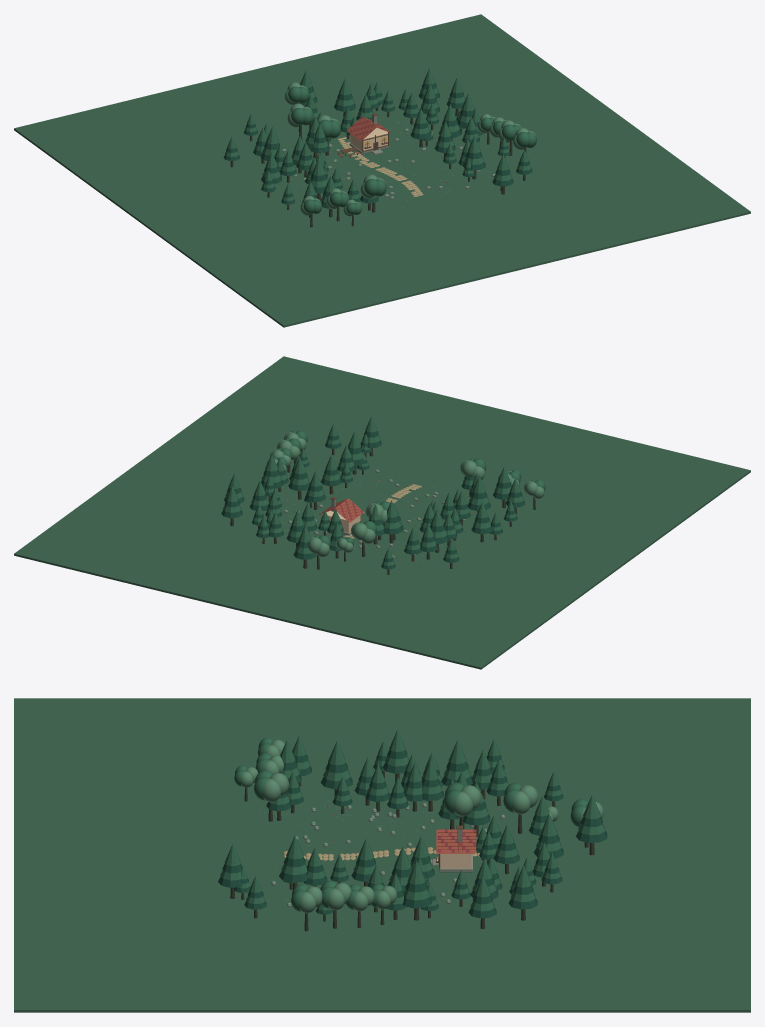
Rendered from cottage-DAZlgpLc.glb.
The picture shows the model from 3 angles, top to bottom: view 1: azimuth 30°, elevation 25°; view 2: azimuth 150°, elevation 25°; view 3: azimuth 270°, elevation 25°; orthographic projection. The views are drawn at different scales.
Parts seen in each view (by area): view 1: Forest_ground, Forest_leaf, Forest_darkleaf, Forest_lightleaf, Forest_bark, Forest_path; view 2: Forest_ground, Forest_leaf, Forest_darkleaf, Forest_lightleaf, Forest_bark; view 3: Forest_ground, Forest_leaf, Forest_darkleaf, Forest_lightleaf, Forest_bark, Forest_roof, Forest_stone, Forest_path.
Part boxes in pixels (x1,y1,x2,y2): Forest_ground: (14, 14, 750, 327); Forest_leaf: (225, 68, 536, 214); Forest_darkleaf: (223, 83, 532, 208); Forest_lightleaf: (256, 82, 536, 218); Forest_bark: (230, 102, 526, 227); Forest_path: (337, 137, 423, 196); Forest_ground: (14, 356, 750, 669); Forest_leaf: (223, 416, 545, 565); Forest_darkleaf: (221, 431, 524, 569); Forest_lightleaf: (266, 432, 544, 563); Forest_bark: (230, 448, 535, 574); Forest_ground: (14, 698, 750, 1012); Forest_leaf: (220, 730, 605, 911); Forest_darkleaf: (218, 749, 607, 918); Forest_lightleaf: (240, 739, 603, 913); Forest_bark: (230, 771, 594, 931); Forest_roof: (436, 829, 476, 853); Forest_stone: (271, 803, 505, 906); Forest_path: (284, 847, 479, 860).
Size of the model in its own units: 100 by 9.42 by 100.
